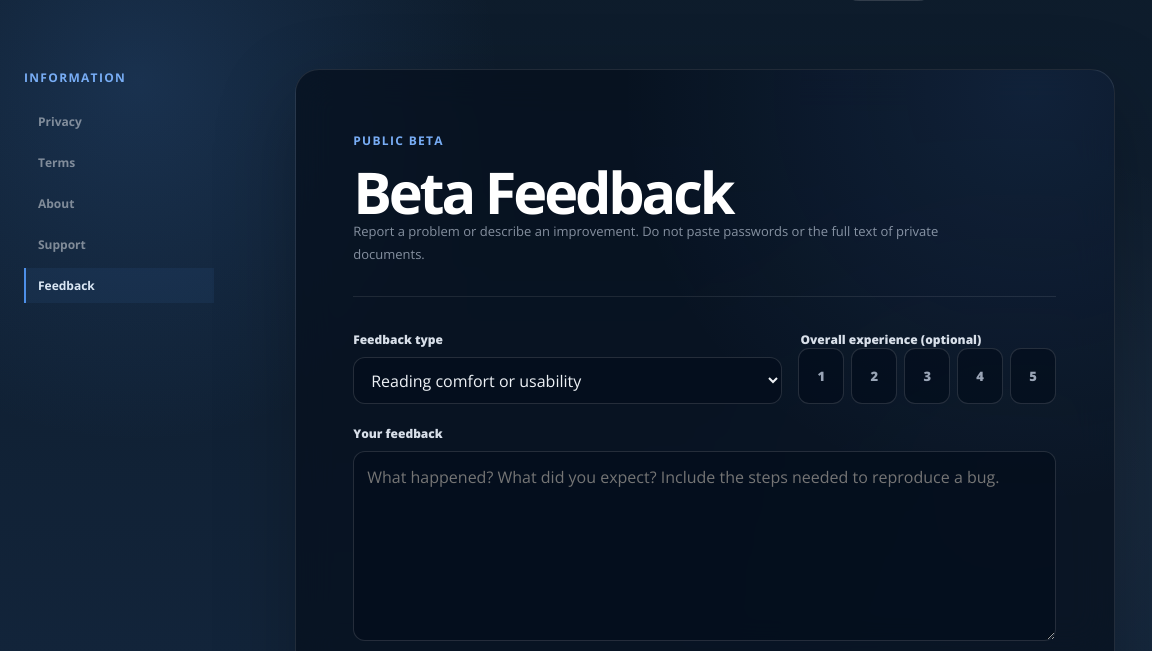
Test: FeedbackPage › explains diagnostics and submits a beta report
Expected: the heading "Beta Feedback" is shown, [353,152,732,231]
Replace the text in the text box labelled "Your feedback" with "The next button was difficult to find on mobile." at (705, 546), box [353,451,1056,641]
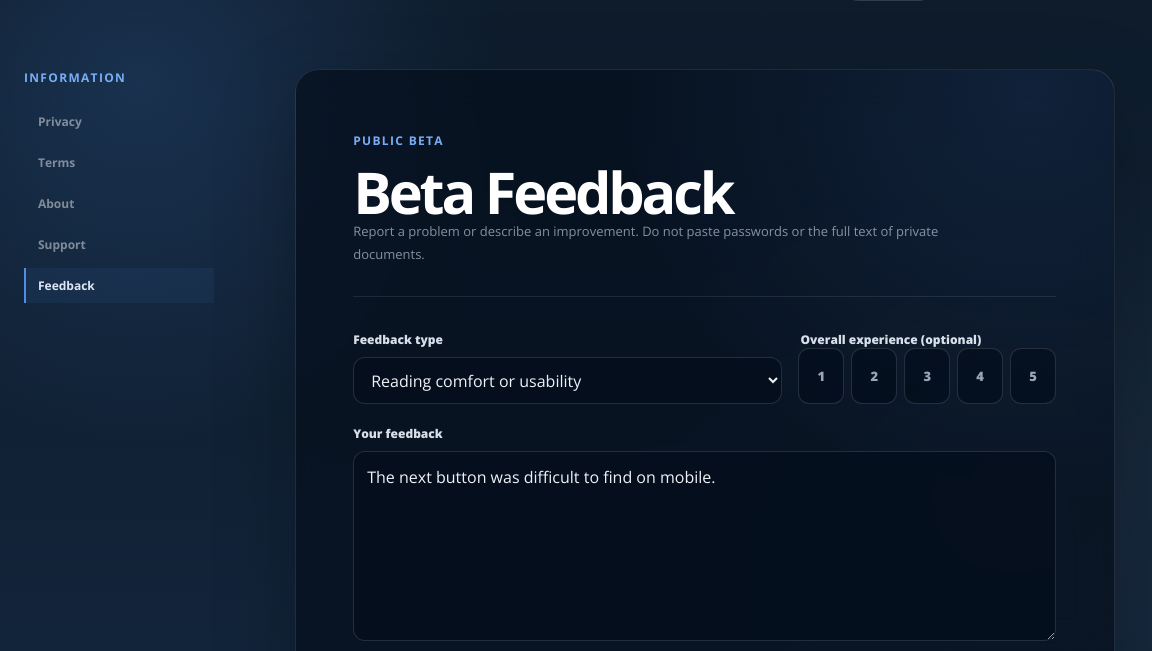
Click the button named "4 out of 5" at (980, 376), box [957,348,1003,404]
(page scrolled)
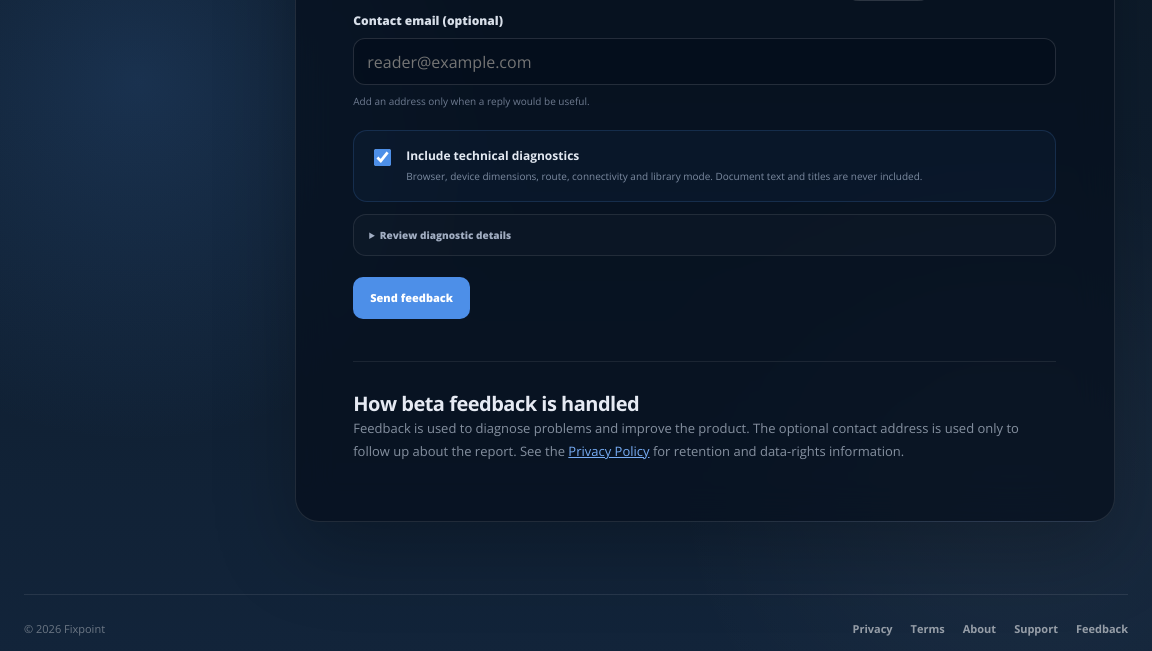
Click the button "Send feedback" at (412, 298), box [353,277,470,319]
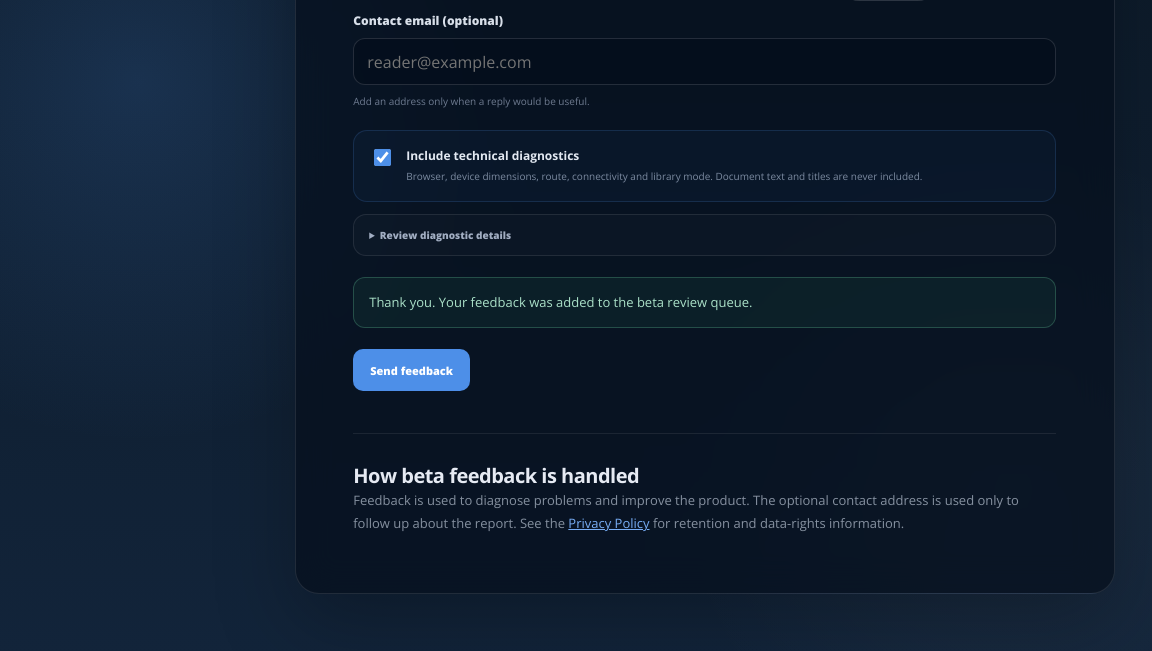
Expected: the text "Thank you. Your feedback was added to the beta review queue." is shown, [353,277,1056,328]
